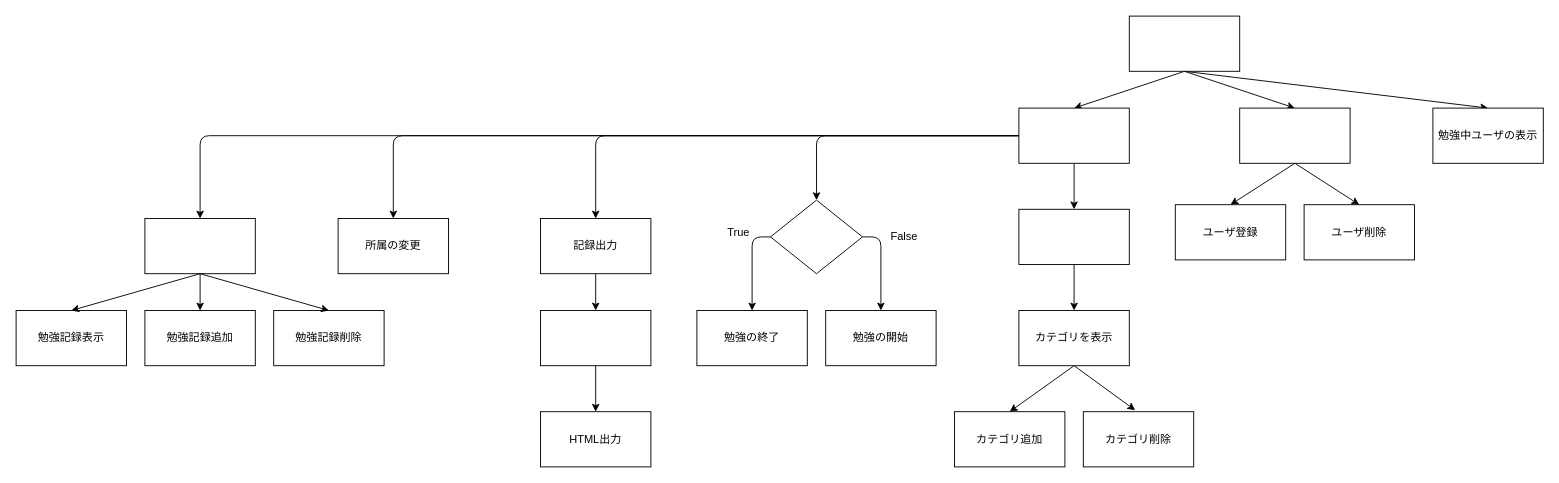
This 1559x483 diagram has some shape labels left out. The shapes that lost their labels are listed below. From the top down, each one's centre as x and y in pixels, then its label:
point (1184, 43): top
point (1073, 135): ログイン
point (1294, 135): ユーザ管理
point (199, 246): 勉強記録管理
point (816, 236): 勉強中
point (1073, 236): カテゴリ管理
point (595, 338): 年月の選択
